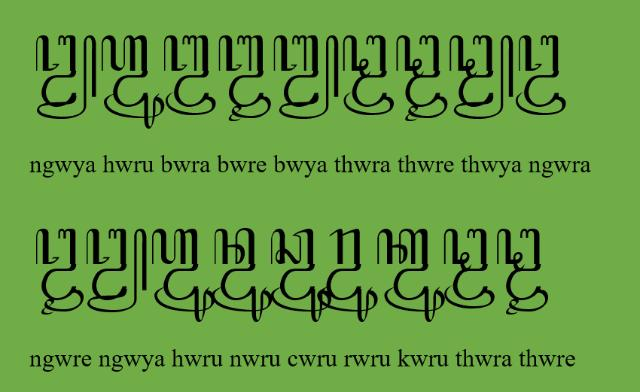bwr: (163, 34, 217, 116)
bwre: (217, 34, 271, 122)
bwy: (273, 35, 339, 119)
cwru: (271, 228, 331, 324)
hwru: (101, 35, 165, 130), (151, 228, 215, 322)
kwru: (376, 228, 446, 322)
ngwra: (516, 34, 566, 116)
ngwre: (36, 228, 84, 316)
ngwya: (34, 34, 98, 119), (86, 228, 148, 312)
nwru: (212, 228, 272, 322)
rwru: (317, 228, 378, 324)
thwr: (342, 34, 394, 116), (443, 228, 495, 310)
thwre: (495, 228, 549, 316), (396, 36, 448, 122)
thwy: (450, 34, 514, 120)
